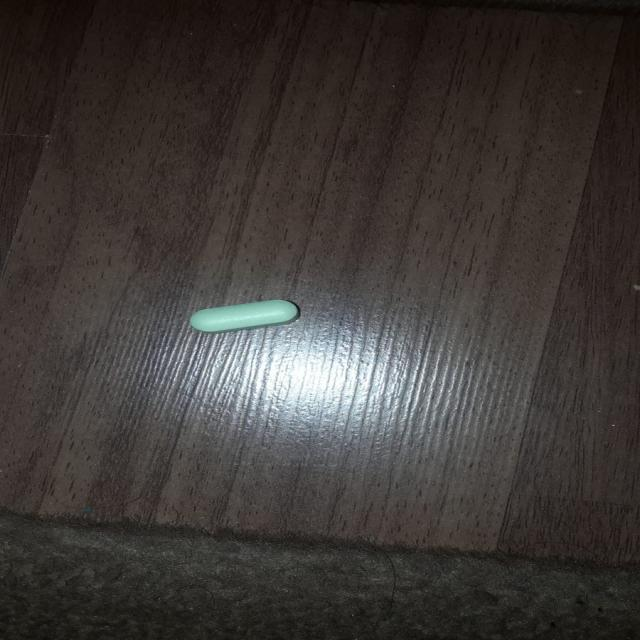pills: (174, 287, 321, 342)
